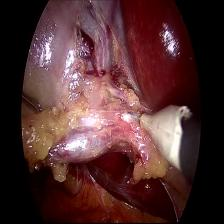Grasper: (20, 90, 46, 125)
Hook: (130, 100, 188, 160)
